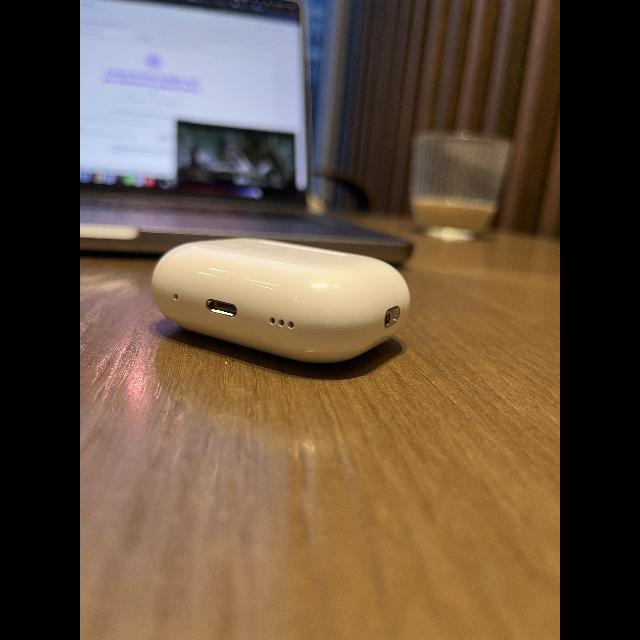AirPods Pro: (147, 230, 421, 384)
